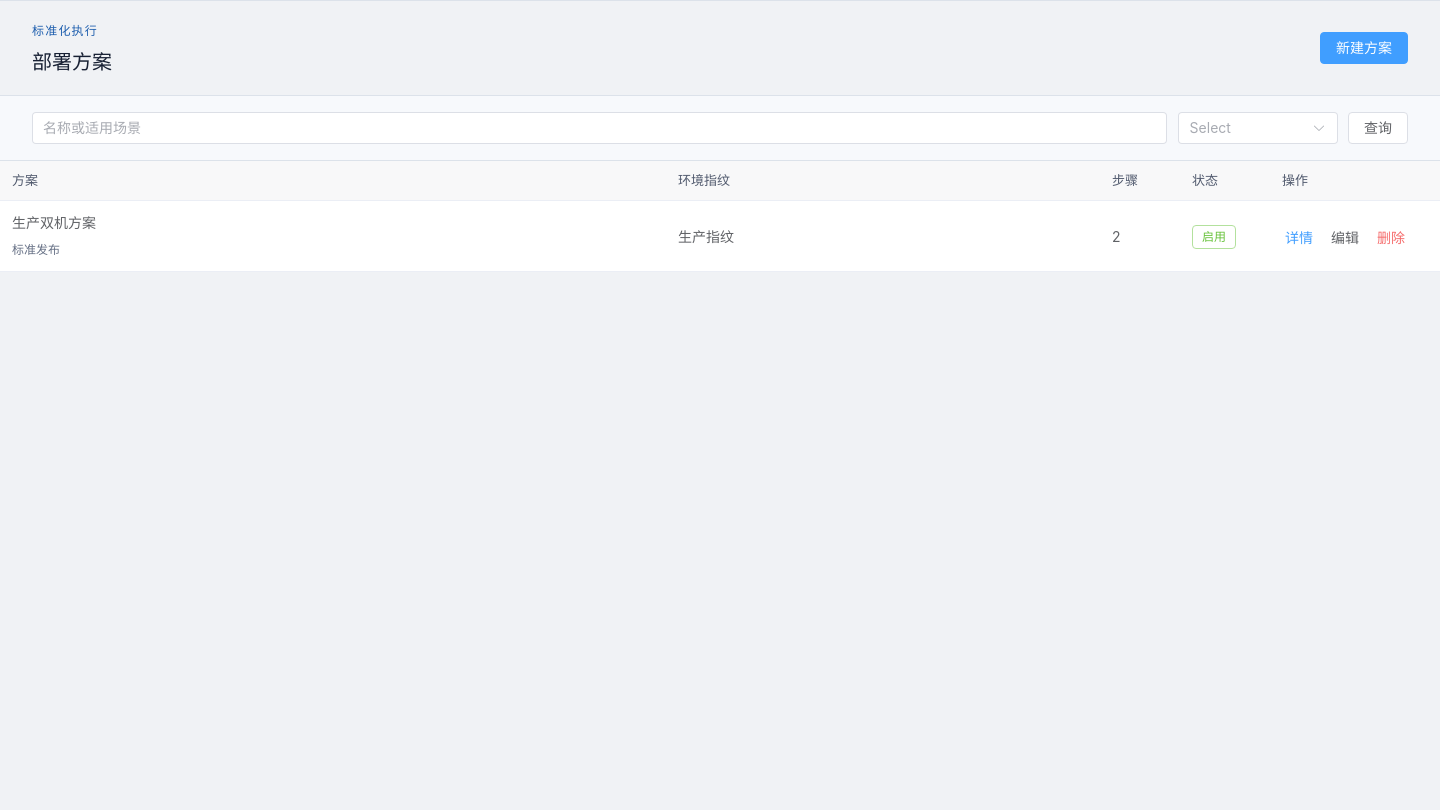
Test: DeploymentSolutionPanel › loads solutions and renders exact asset versions in details
Step 1. Click the button with test id "view-solution" → click(1299, 238), box [1282,228,1316,248]
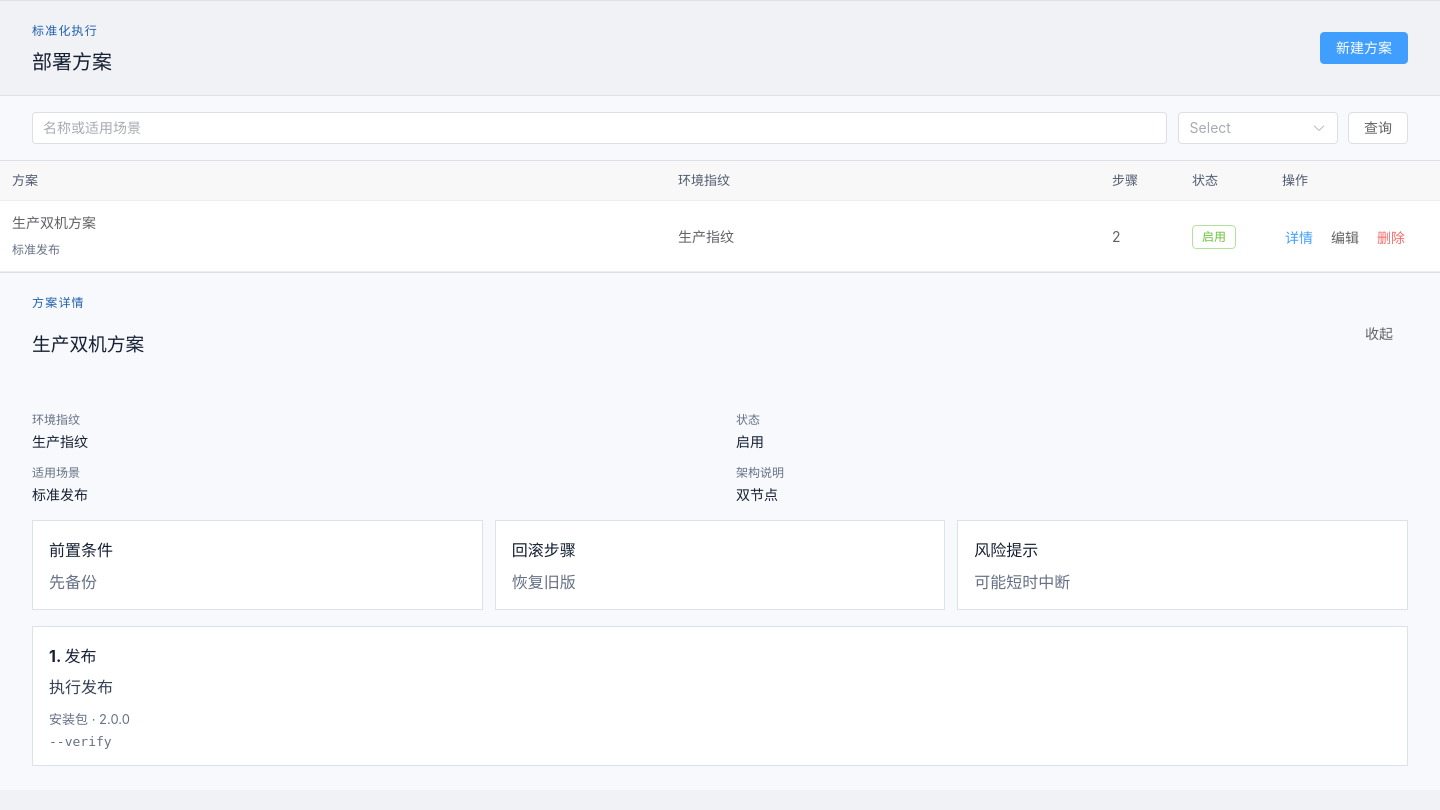
Check: the text "安装包 · 2.0.0" is shown, box [49,711,130,727]
Check: the text "恢复旧版" is shown, box [512,572,576,592]
